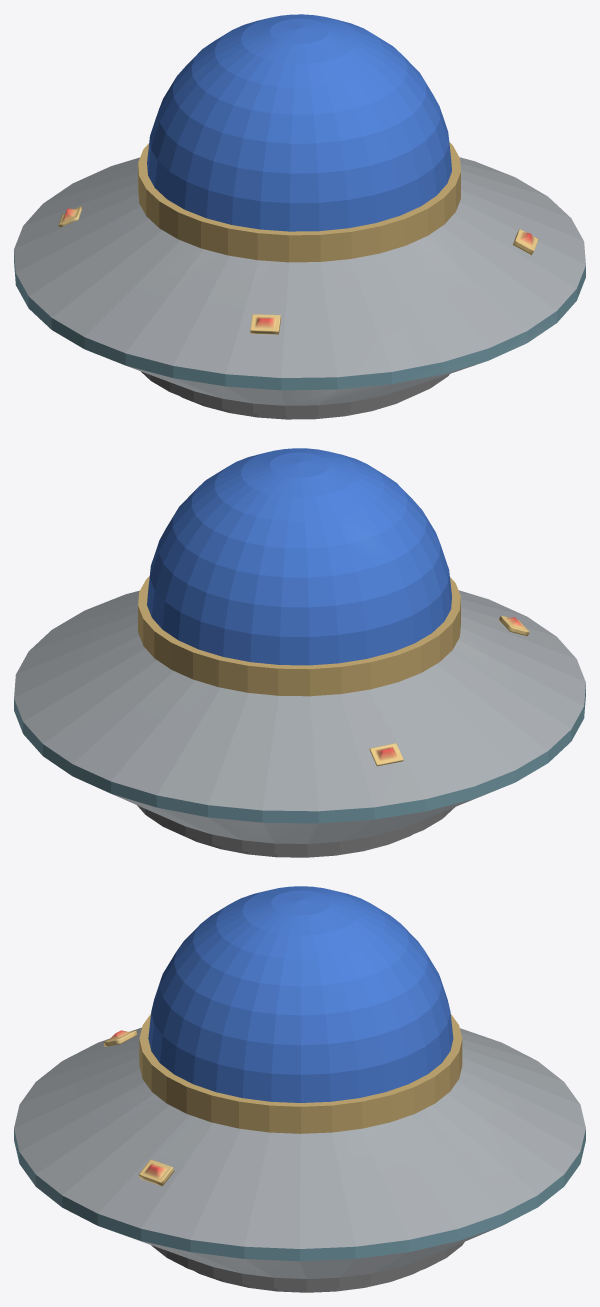
The model's file is UFO.fbx.
3 renders of one model, top to bottom at view 1: azimuth 30°, elevation 25°; view 2: azimuth 150°, elevation 25°; view 3: azimuth 270°, elevation 25°, orthographic.
Parts seen in each view (by area): view 1: Sphere, Cube.001; view 2: Sphere, Cube.002; view 3: Sphere, Cube.007.
Boxes of the visible parts, x1,y1,x2,y2 form: Sphere: (14,14,585,419); Cube.001: (250,314,281,334); Sphere: (14,448,585,857); Cube.002: (369,743,403,766); Sphere: (14,886,585,1292); Cube.007: (138,1159,174,1186).
Bounding box in the file's own units: 3.75 × 2.38 × 3.75.
